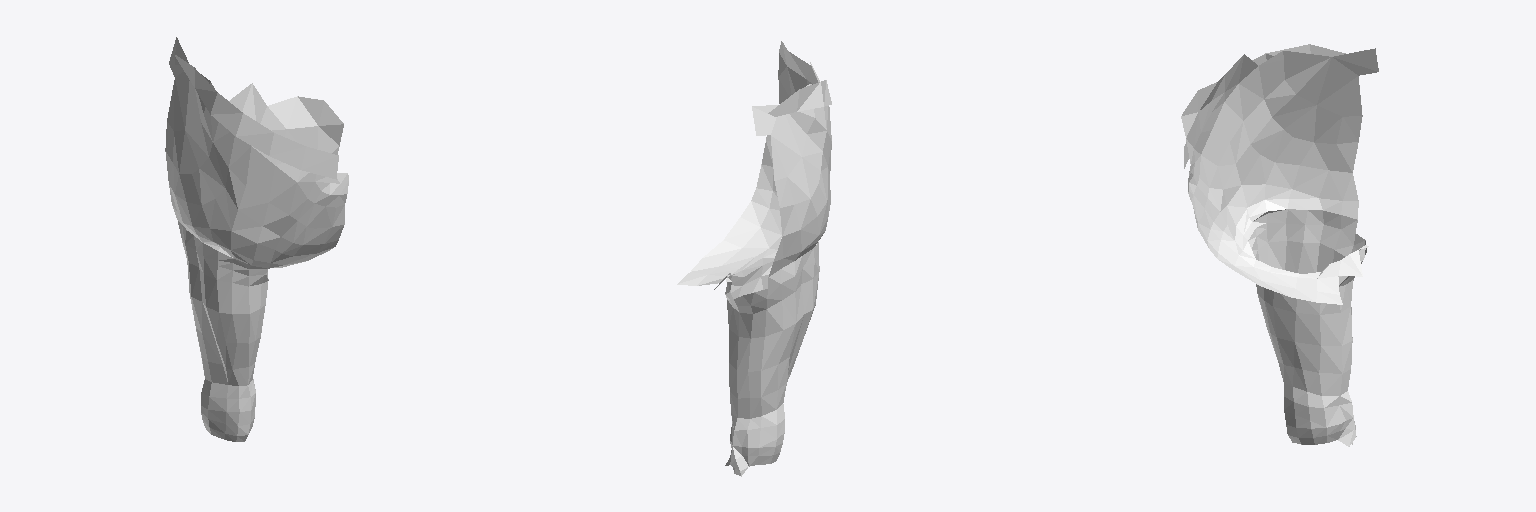
Rendered from leg_front_upper_right.obj.
The picture shows the model from 3 angles: view 1: azimuth 30°, elevation 25°; view 2: azimuth 150°, elevation 25°; view 3: azimuth 270°, elevation 25°; orthographic projection.
Visible parts, largest first — view 1: horse; view 2: horse; view 3: horse.
Boxes of the visible parts, x1,y1,x2,y2 form: horse: [165, 37, 348, 441]; horse: [677, 41, 831, 476]; horse: [1181, 44, 1378, 446].
Bounding box in the file's own units: 13.31 × 40.89 × 19.09.